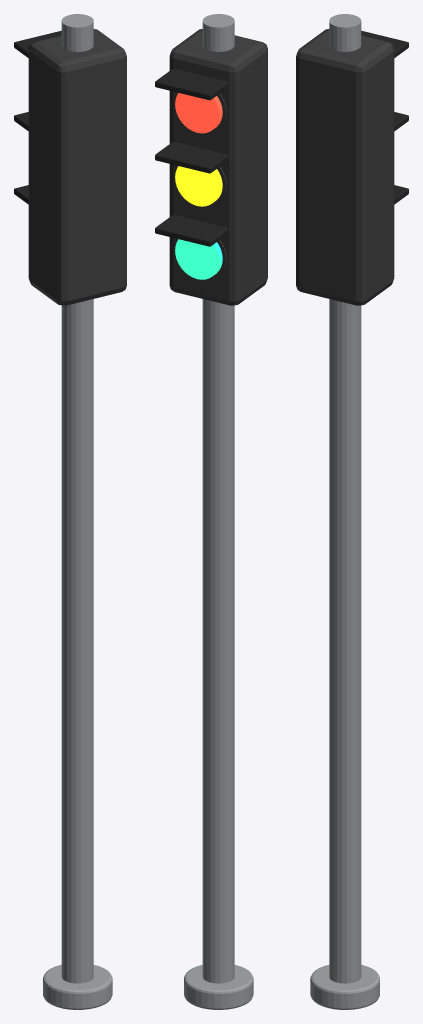
The model's file is traffic_light.glb.
3 renders of one model, left to right at view 1: azimuth 30°, elevation 25°; view 2: azimuth 150°, elevation 25°; view 3: azimuth 330°, elevation 25°, orthographic.
Parts seen in each view (by area): view 1: traffic_light; view 2: traffic_light; view 3: traffic_light.
Boxes of the visible parts, x1,y1,x2,y2 form: traffic_light: (14,14,126,1009); traffic_light: (155,14,267,1009); traffic_light: (296,14,408,1009).
Bounding box in the file's own units: 0.3 × 4 × 0.4.
